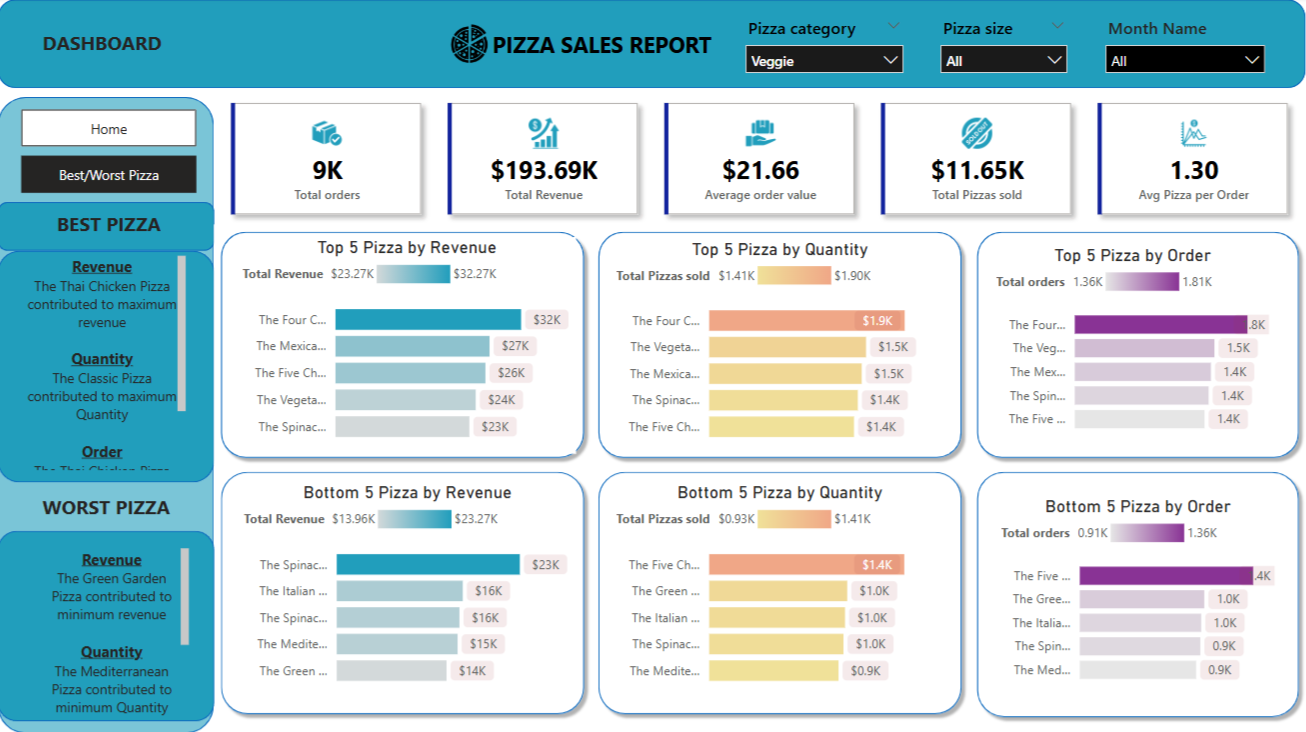

This screenshot's page, from the dashboard's own definition file:
{"tool":"powerbi","page":{"name":"Best/Worst Pizza","canvas":[1280,720],"ordinal":1},"visuals":[{"type":"cardVisual","fields":{"Data":["_Measure table.Total orders","_Measure table.Total Revenue","_Measure table.Average order value","_Measure table.Total Pizzas sold","_Measure table.Avg Pizza per Order"]},"box":[211.6,86.8,1068.8,143.1],"z":0},{"type":"shape","box":[0,2.9,1279.7,86.6],"z":1000},{"type":"shape","box":[0,97.8,211.6,622.4],"z":2000},{"type":"textbox","box":[479,27.4,242.4,39],"z":3000},{"type":"image","box":[424.2,21.6,75,47.6],"z":4000},{"type":"textbox","box":[39.1,26.9,150.4,37.9],"z":5000},{"type":"slicer","fields":{"Values":["pizza_sales.pizza_category"]},"box":[721.4,13,174.6,73.6],"z":6000},{"type":"slicer","fields":{"Values":["pizza_sales.pizza_size"]},"box":[912.5,13,144.3,73.6],"z":7000},{"type":"slicer","fields":{"Values":["Calendar_Table.Month Name"]},"box":[1073.4,13,176,73.6],"z":8000},{"type":"shape","box":[212.1,457.4,369.3,251],"z":9000},{"type":"shape","box":[0,200.5,212.1,47.6],"z":10000},{"type":"shape","box":[0,248.2,212.1,226.5],"z":11000},{"type":"shape","box":[0,522.3,212.1,186.1],"z":12000},{"type":"textbox","box":[25.7,204.2,166.3,36.7],"z":13000},{"type":"textbox","box":[23.1,480.4,165.9,37.5],"z":14000},{"type":"textbox","box":[23.1,248.2,165.9,219.3],"z":15000},{"type":"shape","box":[212.1,222.2,369.3,235.2],"z":16000},{"type":"shape","box":[581.4,222.2,369.3,235.2],"z":17000},{"type":"shape","box":[581.4,457.4,369.3,251],"z":18000},{"type":"shape","box":[950.8,222.2,328.9,235.2],"z":19000},{"type":"shape","box":[950.8,457.4,328.9,253.9],"z":20000},{"type":"barChart","title":" Top 5 Pizza by Revenue","fields":{"Category":["pizza_sales.pizza_name"],"Y":["_Measure table.Total Revenue"]},"box":[234.7,234.7,331.4,211.9],"z":21000},{"type":"barChart","title":" Bottom 5 Pizza by Revenue","fields":{"Category":["pizza_sales.pizza_name"],"Y":["_Measure table.Total Revenue"]},"box":[236.6,474.7,330.4,210.6],"z":22000},{"type":"barChart","title":" Top 5 Pizza by Quantity","fields":{"Category":["pizza_sales.pizza_name"],"Y":["_Measure table.Total Pizzas sold"]},"box":[600.2,236.6,330.4,210.6],"z":23000},{"type":"barChart","title":" Bottom 5 Pizza by Quantity","fields":{"Category":["pizza_sales.pizza_name"],"Y":["_Measure table.Total Pizzas sold"]},"box":[600.2,474.7,330.4,210.6],"z":24000},{"type":"barChart","title":" Top 5 Pizza by Order","fields":{"Category":["pizza_sales.pizza_name"],"Y":["_Measure table.Total orders"]},"box":[972.4,242.4,277,194.8],"z":25000},{"type":"barChart","title":" Bottom 5 Pizza by Order","fields":{"Category":["pizza_sales.pizza_name"],"Y":["_Measure table.Total orders"]},"box":[977.1,487.7,277.6,194],"z":26000},{"type":"textbox","box":[39,533.8,152.9,174.6],"z":27000},{"type":"pageNavigator","box":[23.2,110.1,171.2,36.7],"z":28000},{"type":"pageNavigator","box":[23.2,155.3,171.2,36.7],"z":29000}]}

Visuals, with their boxes in screenshot pixels (x1, y1, x2, y2), scaled from the page's 1280x720 canvas onto the 1306x732 screenshot:
cardVisual - _Measure table.Total orders x _Measure table.Total Revenue: (x1=216, y1=88, x2=1305, y2=234)
shape: (x1=0, y1=3, x2=1305, y2=91)
shape: (x1=0, y1=99, x2=216, y2=731)
textbox: (x1=489, y1=28, x2=736, y2=68)
image: (x1=433, y1=22, x2=509, y2=70)
textbox: (x1=40, y1=27, x2=193, y2=66)
slicer - pizza_sales.pizza_category: (x1=736, y1=13, x2=914, y2=88)
slicer - pizza_sales.pizza_size: (x1=931, y1=13, x2=1078, y2=88)
slicer - Calendar_Table.Month Name: (x1=1095, y1=13, x2=1275, y2=88)
shape: (x1=216, y1=465, x2=593, y2=720)
shape: (x1=0, y1=204, x2=216, y2=252)
shape: (x1=0, y1=252, x2=216, y2=483)
shape: (x1=0, y1=531, x2=216, y2=720)
textbox: (x1=26, y1=208, x2=196, y2=245)
textbox: (x1=24, y1=488, x2=193, y2=527)
textbox: (x1=24, y1=252, x2=193, y2=475)
shape: (x1=216, y1=226, x2=593, y2=465)
shape: (x1=593, y1=226, x2=970, y2=465)
shape: (x1=593, y1=465, x2=970, y2=720)
shape: (x1=970, y1=226, x2=1305, y2=465)
shape: (x1=970, y1=465, x2=1305, y2=723)
" Top 5 Pizza by Revenue" barChart: (x1=239, y1=239, x2=578, y2=454)
" Bottom 5 Pizza by Revenue" barChart: (x1=241, y1=483, x2=579, y2=697)
" Top 5 Pizza by Quantity" barChart: (x1=612, y1=241, x2=950, y2=455)
" Bottom 5 Pizza by Quantity" barChart: (x1=612, y1=483, x2=950, y2=697)
" Top 5 Pizza by Order" barChart: (x1=992, y1=246, x2=1275, y2=444)
" Bottom 5 Pizza by Order" barChart: (x1=997, y1=496, x2=1280, y2=693)
textbox: (x1=40, y1=543, x2=196, y2=720)
pageNavigator: (x1=24, y1=112, x2=198, y2=149)
pageNavigator: (x1=24, y1=158, x2=198, y2=195)
